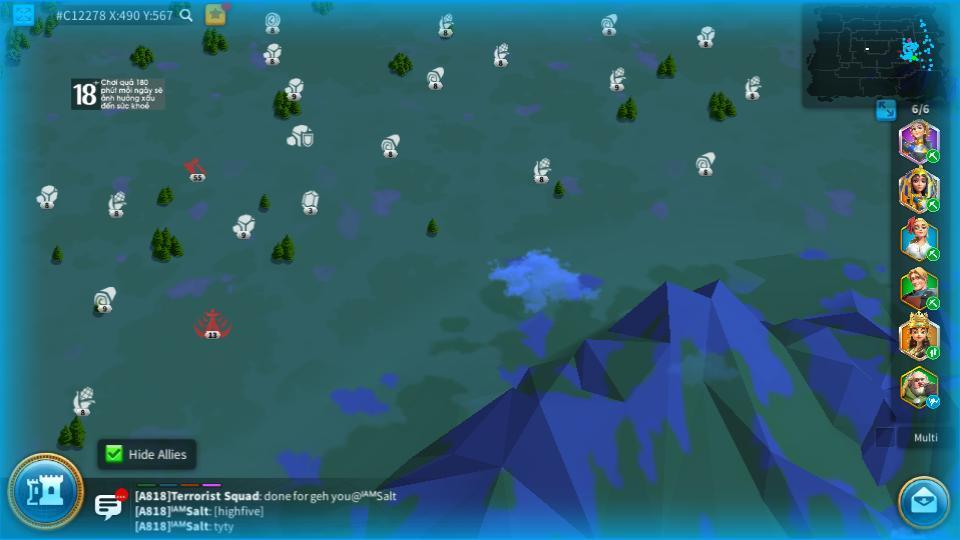gem-z-out: (299, 190, 322, 213)
march_idle: (925, 395, 942, 407)
march_marching: (925, 197, 941, 212), (924, 345, 939, 359), (926, 297, 941, 308)
